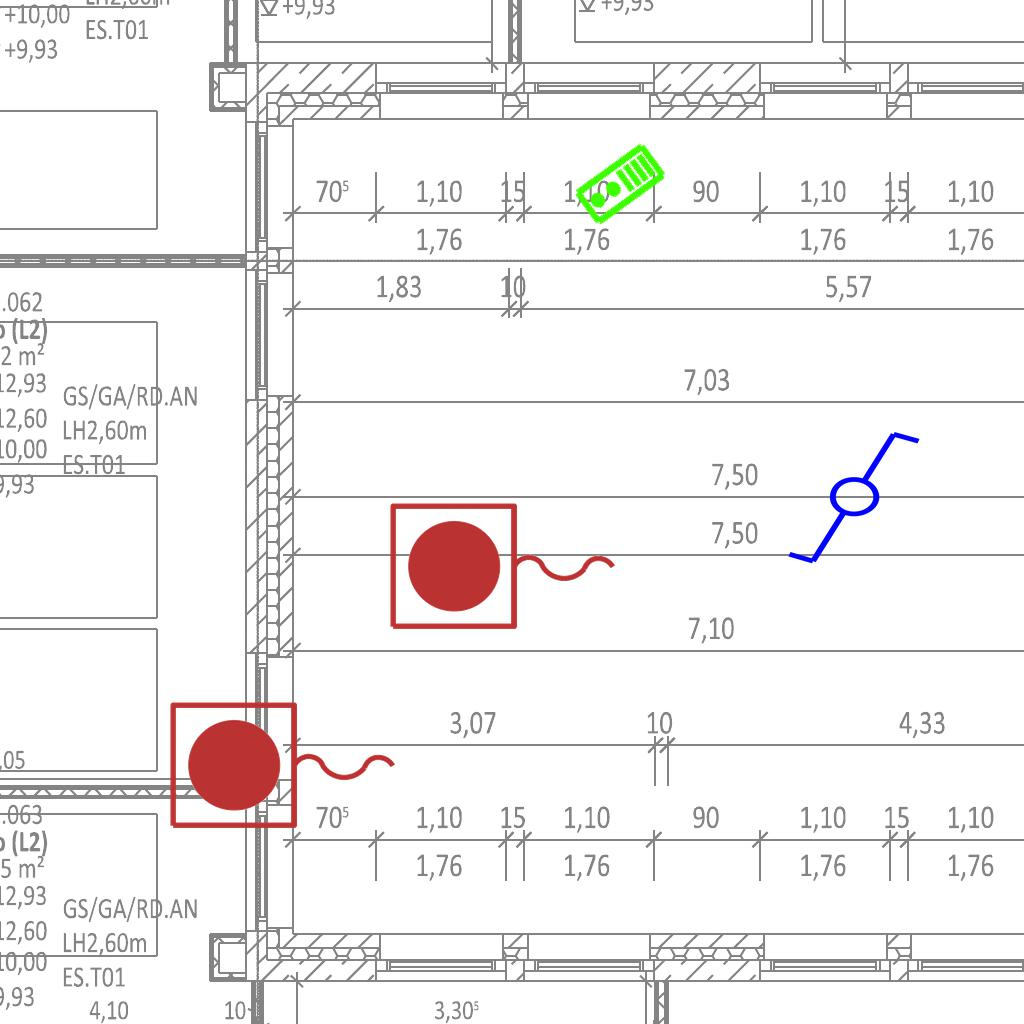Gegensprechanlage_mit_Video: (571, 140, 670, 230)
Wechselschalter: (784, 427, 941, 571)
Zugtaster: (382, 496, 626, 640), (162, 695, 406, 839)
